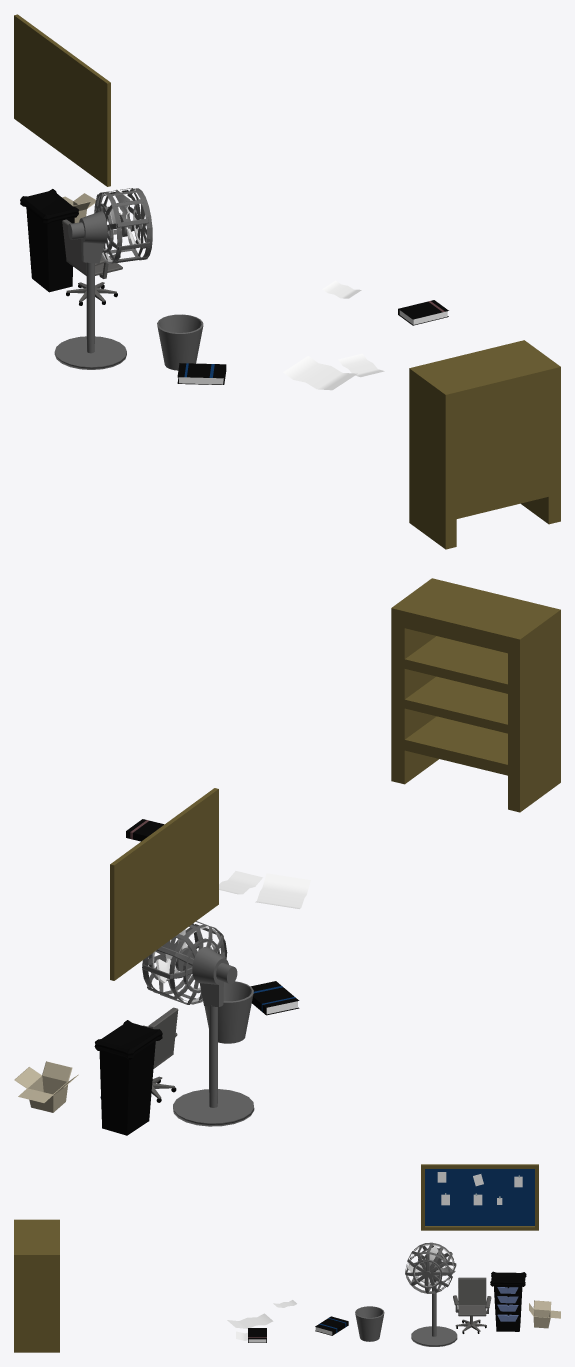
Rendered from assets for fmp 9th match 1.fbx.
3 renders of one model, top to bottom at view 1: azimuth 30°, elevation 25°; view 2: azimuth 150°, elevation 25°; view 3: azimuth 270°, elevation 25°, orthographic. The views are drawn at different scales.
Visible parts, largest first — view 1: pCube1, board, fan, polySurface1245, polySurface1181, polySurface1126, polySurface1244, polySurface1267, polySurface1240; view 2: pCube1, board, fan, polySurface1245, box1, polySurface1181, polySurface1244, polySurface1126, polySurface1267; view 3: board, pCube1, fan, polySurface1245, polySurface1126, polySurface1181, box1, polySurface1267, polySurface1244, polySurface1240.
Part boxes in pixels (x1=…): pCube1: x1=409, y1=340, x2=560, y2=549; board: x1=14, y1=14, x2=110, y2=186; fan: x1=54, y1=188, x2=152, y2=369; polySurface1245: x1=20, y1=189, x2=78, y2=292; polySurface1181: x1=157, y1=314, x2=203, y2=370; polySurface1126: x1=62, y1=219, x2=122, y2=305; polySurface1244: x1=283, y1=356, x2=357, y2=390; polySurface1267: x1=177, y1=363, x2=226, y2=384; polySurface1240: x1=398, y1=300, x2=448, y2=325; pCube1: x1=391, y1=578, x2=560, y2=812; board: x1=110, y1=788, x2=218, y2=980; fan: x1=142, y1=921, x2=254, y2=1126; polySurface1245: x1=94, y1=1020, x2=162, y2=1135; box1: x1=14, y1=1061, x2=78, y2=1112; polySurface1181: x1=204, y1=981, x2=253, y2=1043; polySurface1244: x1=255, y1=873, x2=310, y2=908; polySurface1126: x1=143, y1=1007, x2=178, y2=1102; polySurface1267: x1=251, y1=981, x2=299, y2=1015; board: x1=421, y1=1164, x2=538, y2=1230; pCube1: x1=14, y1=1219, x2=59, y2=1352; fan: x1=405, y1=1242, x2=457, y2=1346; polySurface1245: x1=490, y1=1271, x2=526, y2=1331; polySurface1126: x1=453, y1=1277, x2=491, y2=1333; polySurface1181: x1=355, y1=1306, x2=384, y2=1341; box1: x1=529, y1=1300, x2=560, y2=1328; polySurface1267: x1=315, y1=1316, x2=348, y2=1335; polySurface1244: x1=227, y1=1313, x2=273, y2=1328; polySurface1240: x1=248, y1=1328, x2=266, y2=1342.
Bounding box in the file's own units: 7032 × 7697 × 21789.
